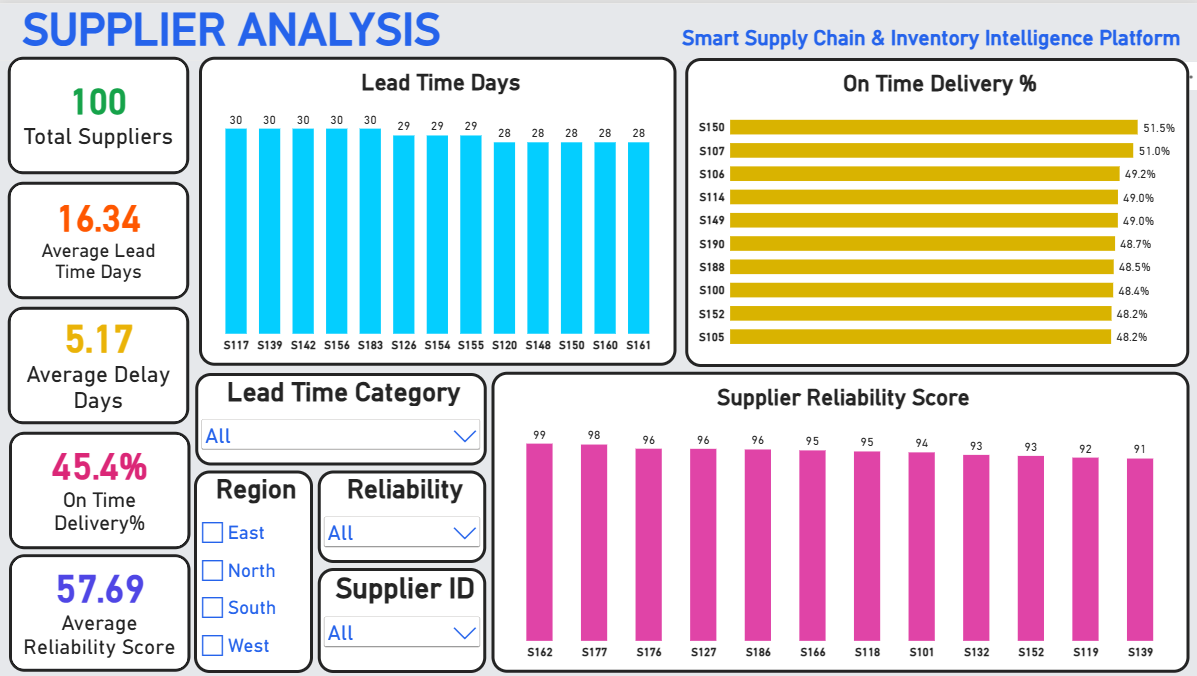

What the dashboard file says about the page in this screenshot:
{"tool":"powerbi","page":{"name":"Supplier Analysis","canvas":[1920,1080],"ordinal":4},"visuals":[{"type":"textbox","box":[0,0,1920.1,92.3],"z":0},{"type":"cardVisual","fields":{"Data":["CountNonNull(Suppliers.Supplier_ID)"]},"box":[14,85,290,188],"z":1000},{"type":"cardVisual","fields":{"Data":["Avg(Suppliers.Lead_Time_Days)"]},"box":[14,285,290,188],"z":2000},{"type":"cardVisual","fields":{"Data":["Avg(Purchases.Delivery Delay Days)"]},"box":[14,485,290,188],"z":3000},{"type":"clusteredBarChart","title":"On Time Delivery %","fields":{"Category":["Suppliers.Supplier_ID"],"Y":["Purchases.On Time Delivery %"]},"box":[1098,88,806,494],"z":4000},{"type":"slicer","title":"Supplier ID","fields":{"Values":["Suppliers.Supplier_ID"]},"box":[510,904,269.6,168.3],"z":5000},{"type":"cardVisual","fields":{"Data":["Purchases.On Time Delivery %"]},"box":[16,685,290,188],"z":6000},{"type":"cardVisual","fields":{"Data":["Avg(Suppliers.Reliability_Score)"]},"box":[16,882,290,188],"z":7000},{"type":"clusteredColumnChart","title":"Supplier Reliability Score","fields":{"Category":["Suppliers.Supplier_ID"],"Y":["Sum(Suppliers.Reliability_Score)"]},"box":[787.2,589.9,1116.6,481.4],"z":8000},{"type":"columnChart","title":"Lead Time Days","fields":{"Category":["Suppliers.Supplier_ID"],"Y":["Sum(Suppliers.Lead_Time_Days)"]},"box":[320,86,764,494],"z":9000},{"type":"slicer","title":"Lead Time Category","fields":{"Values":["Suppliers.Lead_Time_Category"]},"box":[314,592,466,148],"z":10000},{"type":"slicer","title":"Reliability","fields":{"Values":["Suppliers.Reliability_Category"]},"box":[510,748,269.6,148.4],"z":11000},{"type":"slicer","title":"Region","fields":{"Values":["Warehouses.Region"]},"box":[312,748,190,324],"z":12000}]}

Visuals, with their boxes in screenshot pixels (x1, y1, x2, y2), scaled from the page's 1920x1080 canvas onto the 1197x676 screenshot:
textbox: Rect(0, 0, 1196, 58)
cardVisual - CountNonNull(Suppliers.Supplier_ID): Rect(9, 53, 190, 171)
cardVisual - Avg(Suppliers.Lead_Time_Days): Rect(9, 178, 190, 296)
cardVisual - Avg(Purchases.Delivery Delay Days): Rect(9, 304, 190, 421)
"On Time Delivery %" clusteredBarChart: Rect(685, 55, 1187, 364)
"Supplier ID" slicer: Rect(318, 566, 486, 671)
cardVisual - Purchases.On Time Delivery %: Rect(10, 429, 191, 546)
cardVisual - Avg(Suppliers.Reliability_Score): Rect(10, 552, 191, 670)
"Supplier Reliability Score" clusteredColumnChart: Rect(491, 369, 1187, 671)
"Lead Time Days" columnChart: Rect(200, 54, 676, 363)
"Lead Time Category" slicer: Rect(196, 371, 486, 463)
"Reliability" slicer: Rect(318, 468, 486, 561)
"Region" slicer: Rect(195, 468, 313, 671)
